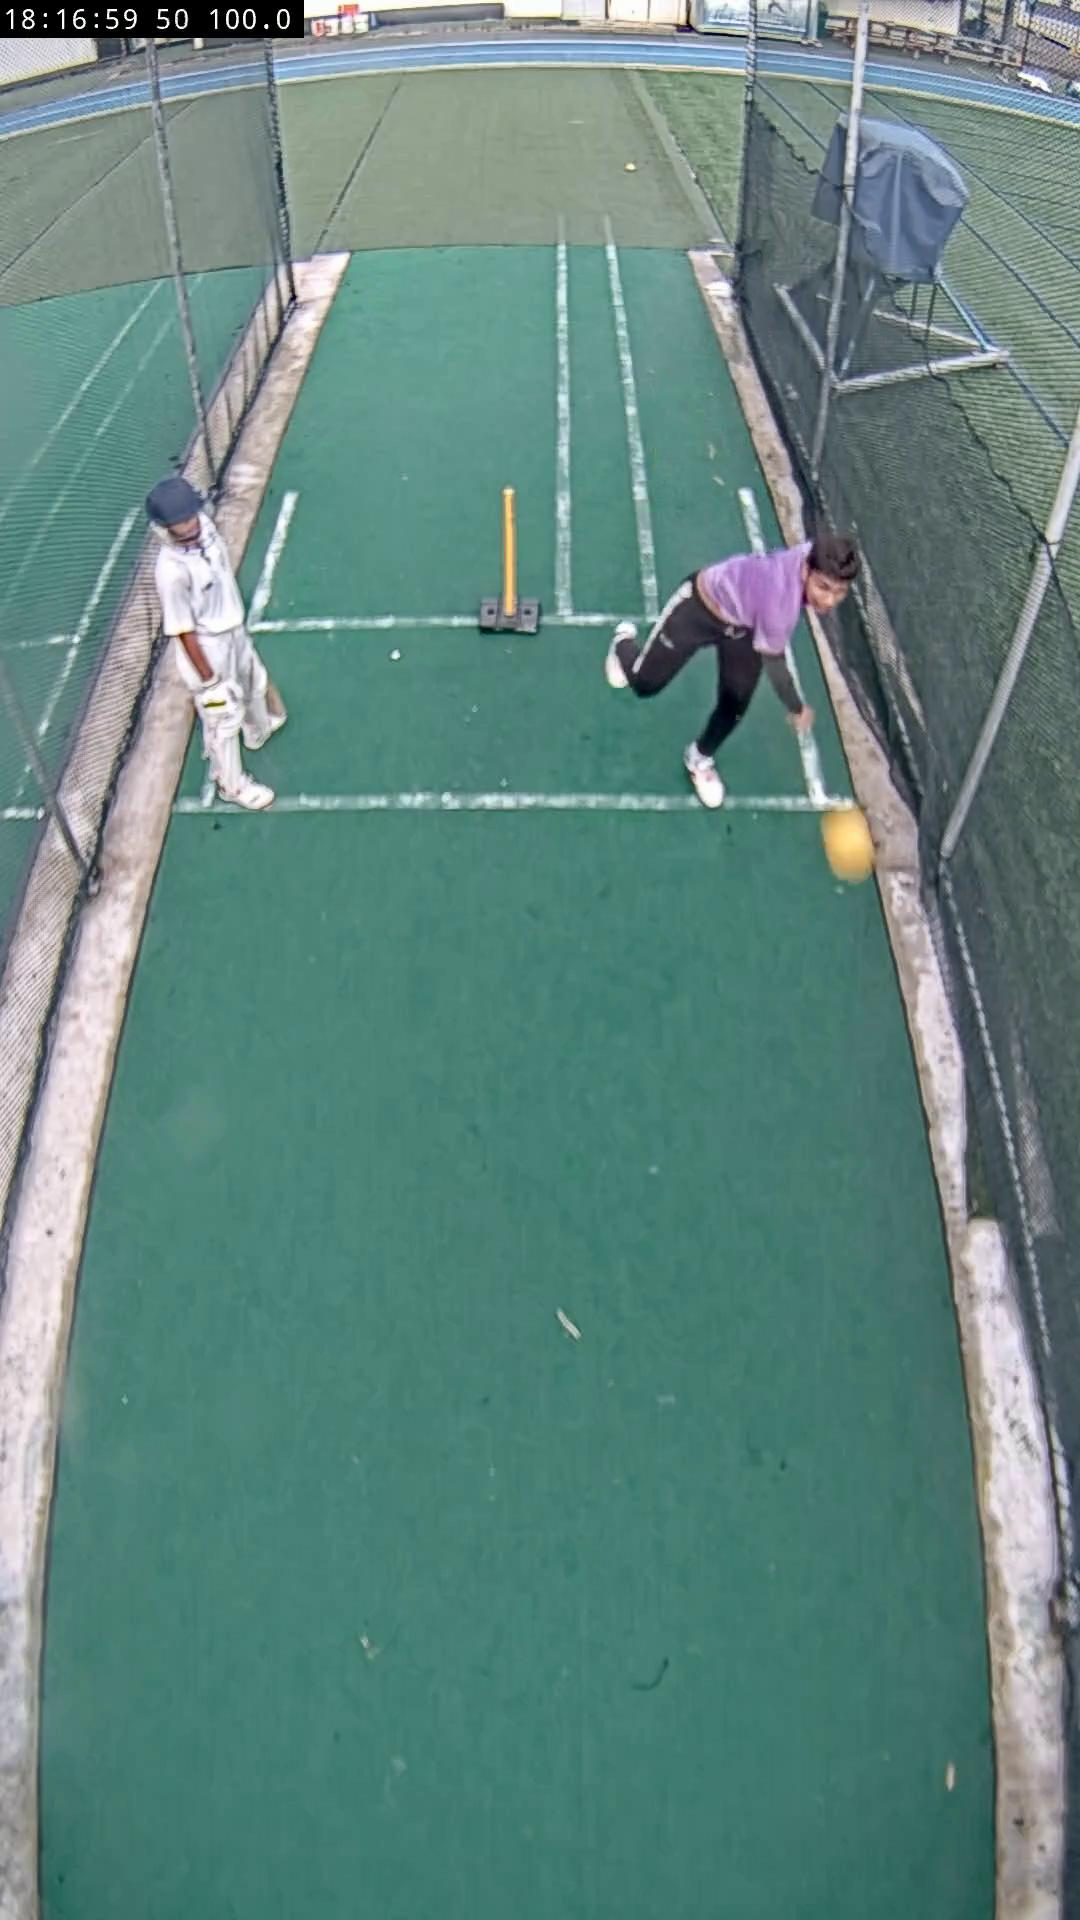ball: (822, 803, 874, 881)
stumps: (476, 488, 541, 634)
